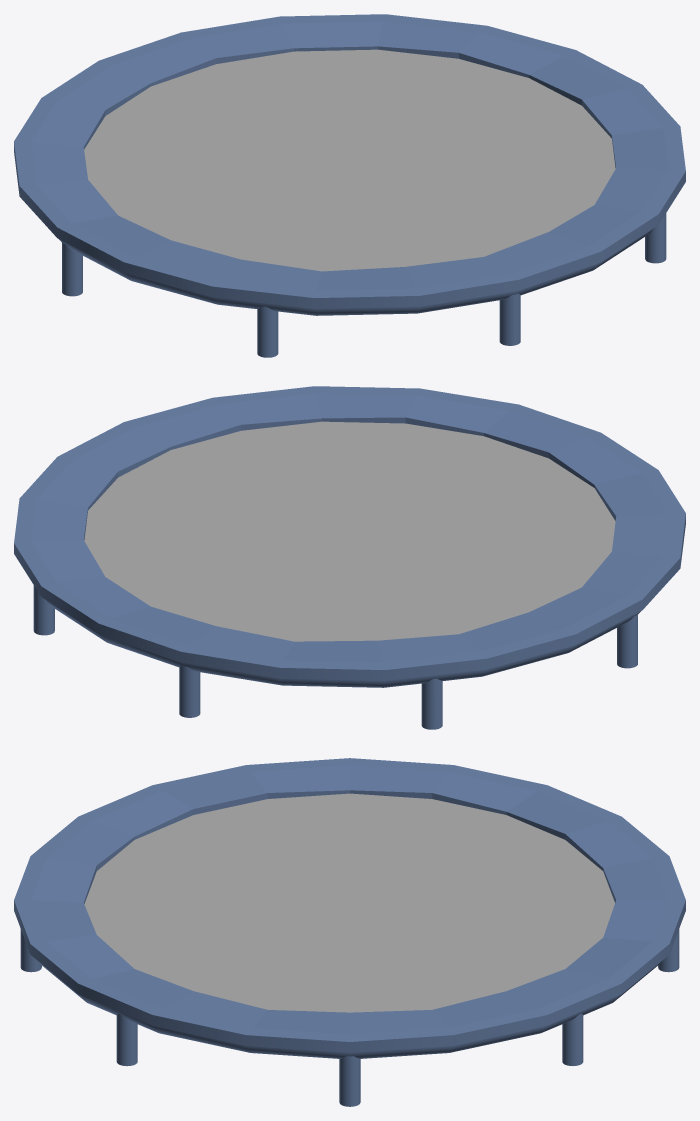
Rendered from SM_trampolin.fbx.
3 renders of one model, top to bottom at view 1: azimuth 30°, elevation 25°; view 2: azimuth 150°, elevation 25°; view 3: azimuth 270°, elevation 25°, orthographic.
Parts seen in each view (by area): view 1: pDisc1, pCylinder3, pTorus1, pCylinder2, pCylinder8, pCylinder6, pCylinder10; view 2: pDisc1, pCylinder3, pTorus1, pCylinder4, pCylinder9, pCylinder6, pCylinder7; view 3: pDisc1, pCylinder3, pTorus1, pCylinder5, pCylinder7, pCylinder10.
Boxes of the visible parts, x1,y1,x2,y2 form: pDisc1: (84,49,615,271); pCylinder3: (14,14,685,308); pTorus1: (59,228,653,315); pCylinder2: (499,293,520,345); pCylinder8: (257,306,278,357); pCylinder6: (62,242,82,296); pCylinder10: (645,213,666,263); pDisc1: (84,421,615,641); pCylinder3: (14,386,685,680); pTorus1: (46,600,640,687); pCylinder4: (179,665,200,717); pCylinder9: (421,678,442,729); pCylinder6: (617,614,637,668); pCylinder7: (33,585,54,635); pDisc1: (84,793,614,1012); pCylinder3: (14,758,685,1052); pTorus1: (37,960,662,1058); pCylinder5: (339,1056,360,1106); pCylinder7: (562,1013,583,1065); pCylinder10: (116,1014,137,1066).
Bounding box in the file's own units: 180 × 20 × 180.
